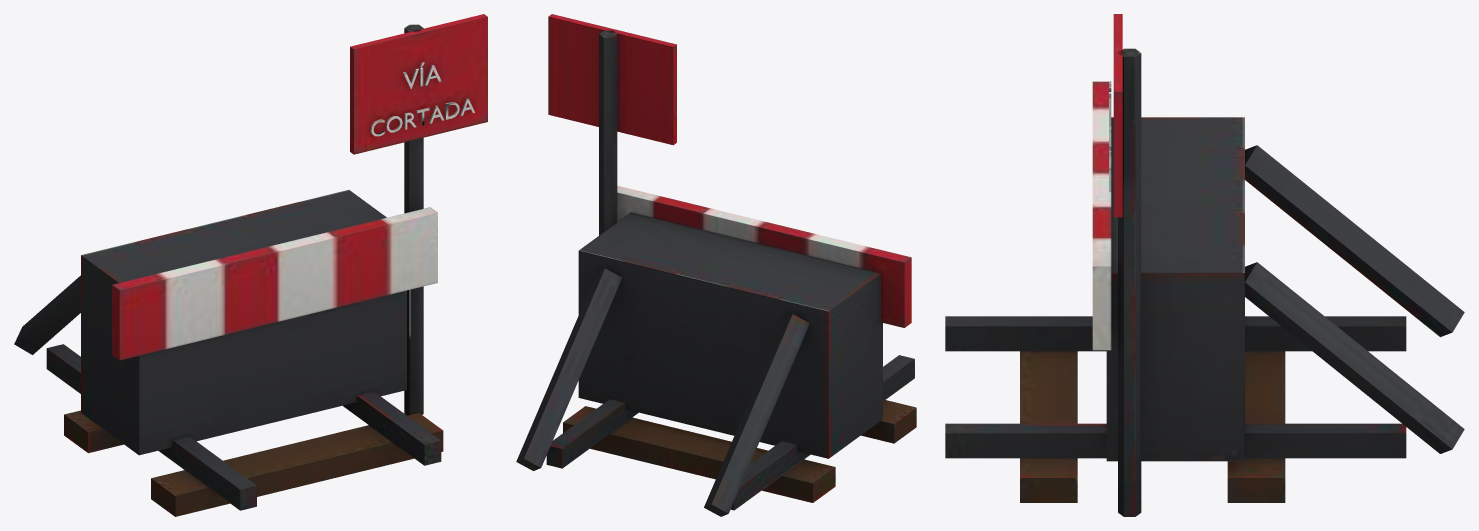
The model's file is barrera_via.glb.
3 views of the same model, side by side, from view 1: azimuth 30°, elevation 25°; view 2: azimuth 150°, elevation 25°; view 3: azimuth 270°, elevation 25° (orthographic). The views are drawn at different scales.
Visible parts, largest first — view 1: barrera_via; view 2: barrera_via; view 3: barrera_via.
Boxes of the visible parts, bbox=[...] form: barrera_via: bbox=[14, 14, 487, 516]; barrera_via: bbox=[516, 14, 916, 516]; barrera_via: bbox=[945, 14, 1464, 516].
Bounding box in the file's own units: 2.25 × 2.2 × 2.25.
1 material, 1 textured.
